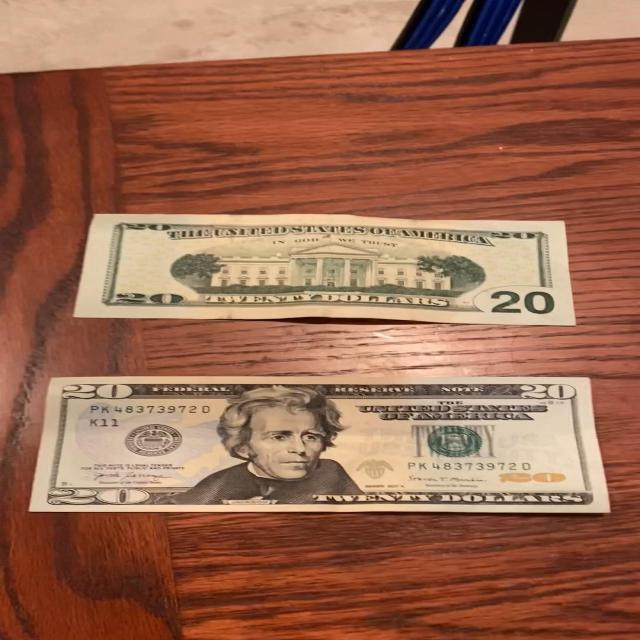20-Back: (70, 208, 582, 334)
20-Front: (29, 370, 616, 517)
